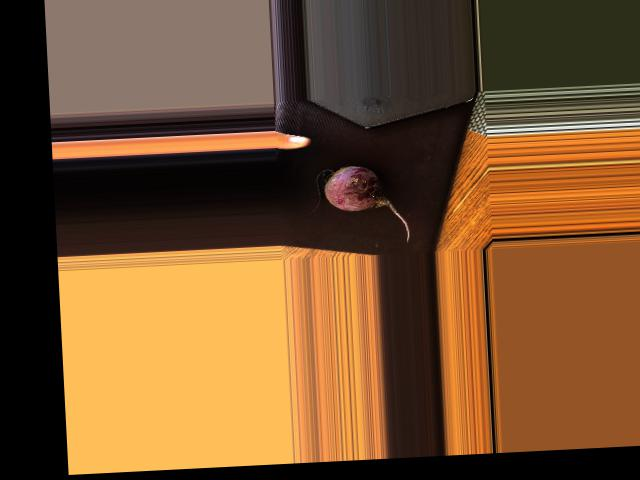beet: (308, 163, 410, 246)
